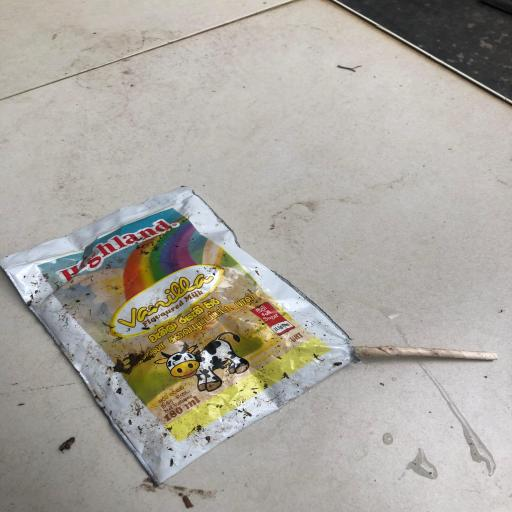waste: (0, 176, 379, 496)
